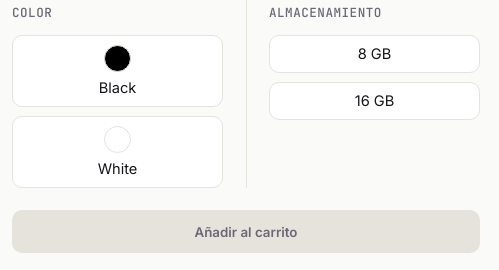
Test: ProductActions › el botón "Añadir al carrito" está deshabilitado hasta elegir color y storage
The image size is (499, 270).
Expected: the button "Añadir al carrito" is disabled, x1=12 y1=210 x2=480 y2=253
Click the radio button labelled "Black". click: (118, 71)
box: x1=12 y1=35 x2=223 y2=107
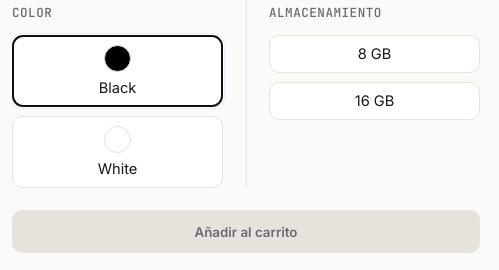
Expected: the button "Añadir al carrito" is disabled, x1=12 y1=210 x2=480 y2=253
Click the radio button labelled "8 GB". click: (374, 54)
box: x1=269 y1=35 x2=480 y2=73
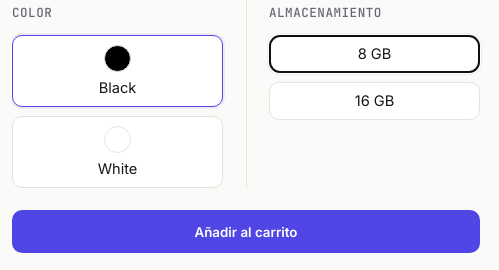
Now the button "Añadir al carrito" is enabled, box x1=12 y1=210 x2=480 y2=253
